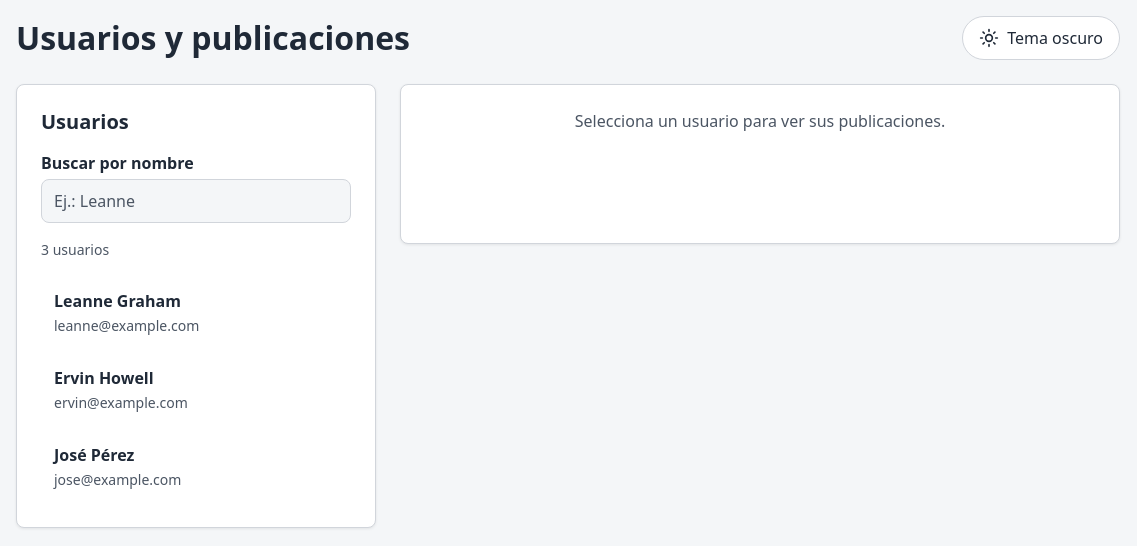
Scenario: Usuarios › filtra por nombre sin distinguir mayúsculas ni tildes y avisa si no hay resultados
Expected: the button "Leanne Graham leanne@example.com" is shown, [41,276,351,349]
Expected: the message reads "3 usuarios", [41,240,109,259]
Type "JOSE" into the search field labelled "Buscar por nombre" at (196, 201), box [41,179,351,223]
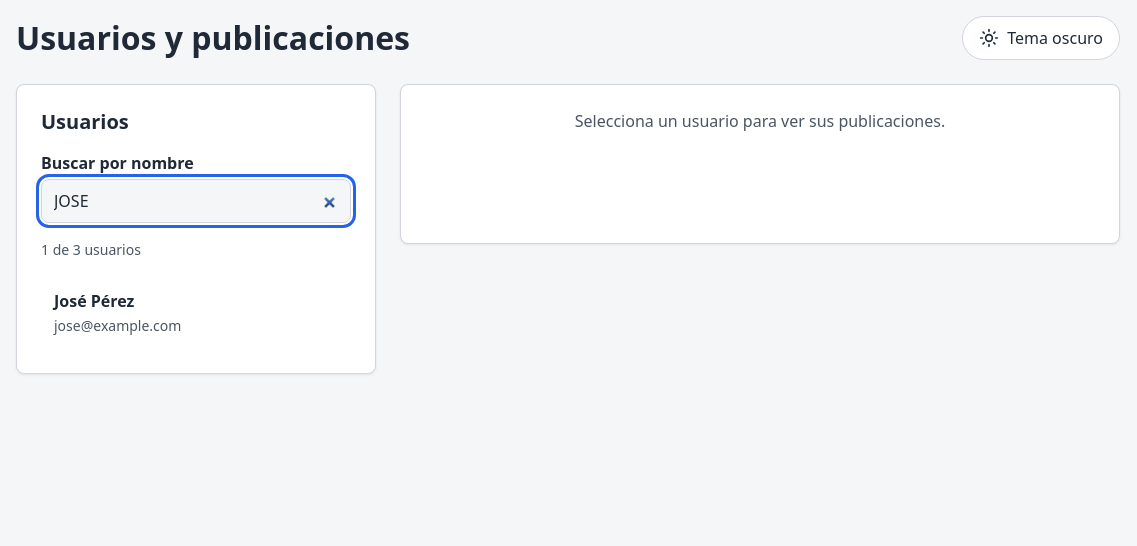
Expected: the button "José Pérez jose@example.com" is shown, [41,276,351,349]
Expected: the button "Leanne Graham" is gone
Expected: the message reads "1 de 3 usuarios", [41,240,141,259]
Replace the text in the search field labelled "Buscar por nombre" with "zzz" at (196, 201), box [41,179,351,223]
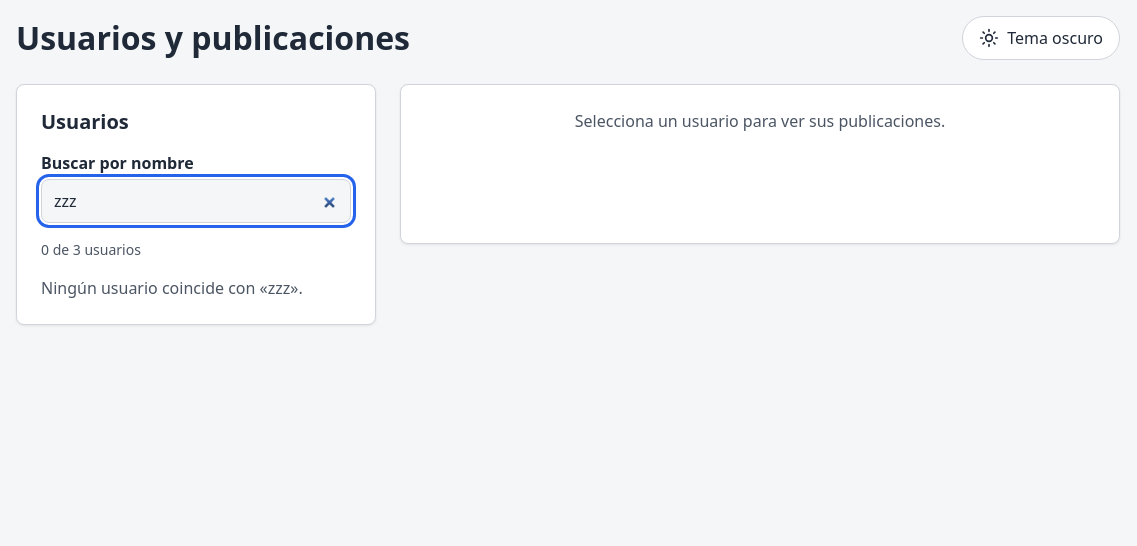
Expected: the text "Ningún usuario coincide con «zzz»." is shown, [41,277,303,299]
